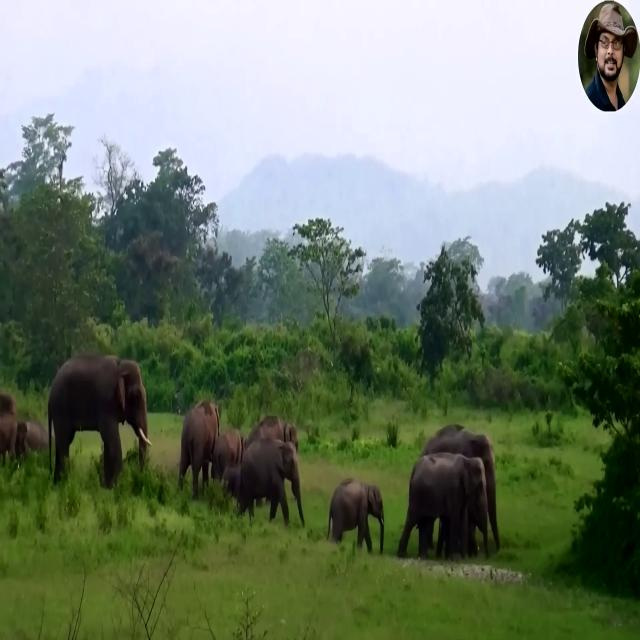Elephant: (47, 353, 152, 490), (397, 451, 489, 561), (238, 437, 305, 528), (177, 399, 220, 500), (327, 478, 384, 554)
